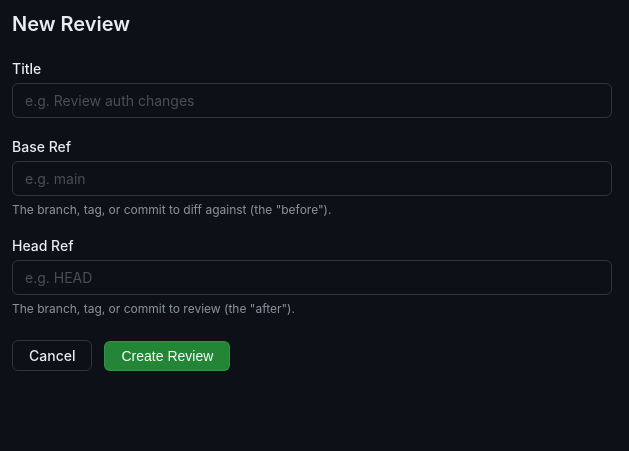
it: SessionCreatePage › shows an ApiError message when session creation fails with ApiError
Type "Test" into the field labelled "Title" at (312, 100), box [12,83,612,118]
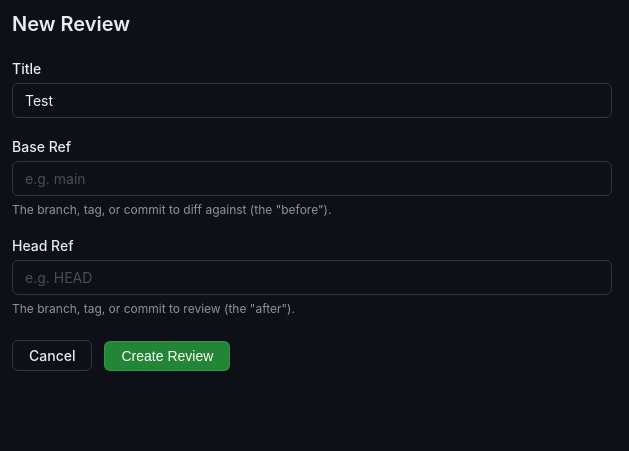
Type "bad-ref" into the dropdown labelled "Base Ref" at (312, 178), box [12,161,612,196]
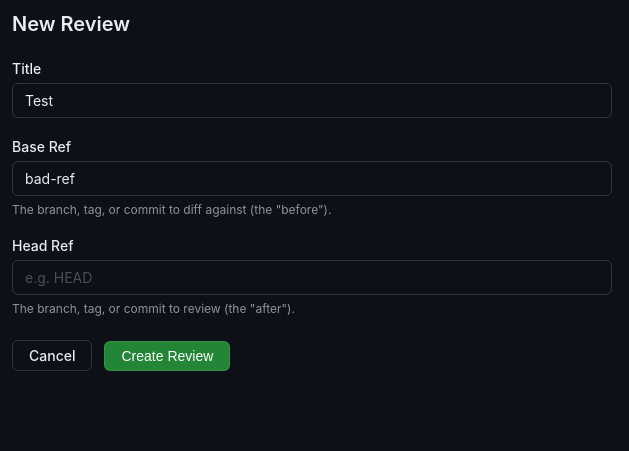
Type "HEAD" into the dropdown labelled "Head Ref" at (312, 278), box [12,260,612,295]
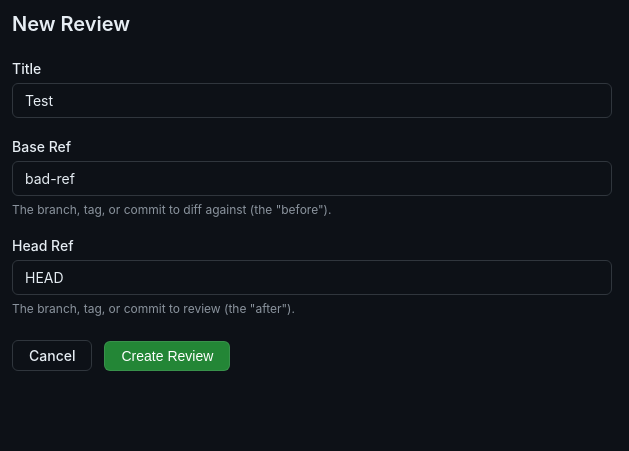
Click the button "Create Review" at (167, 356), box [104,340,230,370]
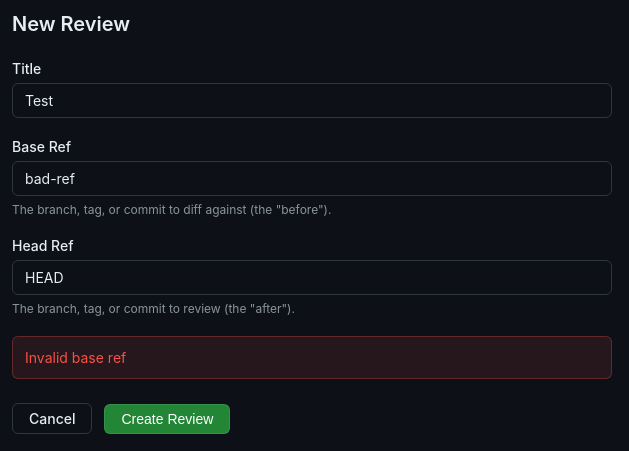
Check: the text "Invalid base ref" is shown, box [12,336,612,379]
